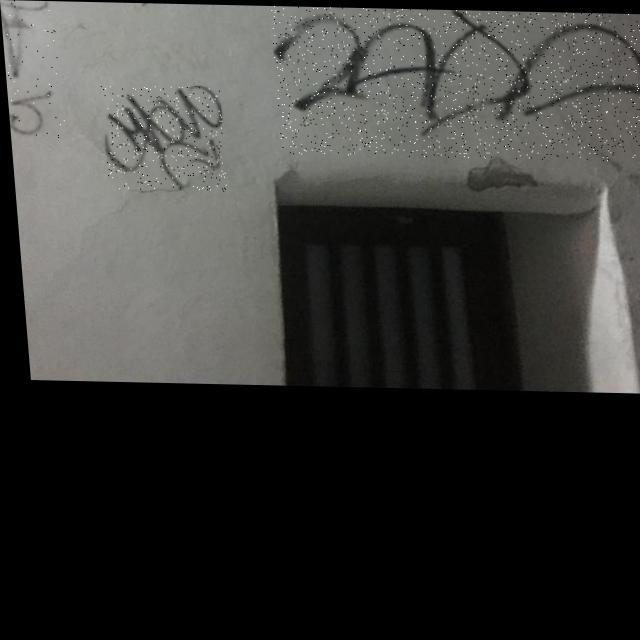-: (270, 5, 640, 159), (99, 84, 225, 190), (0, 0, 64, 139)
